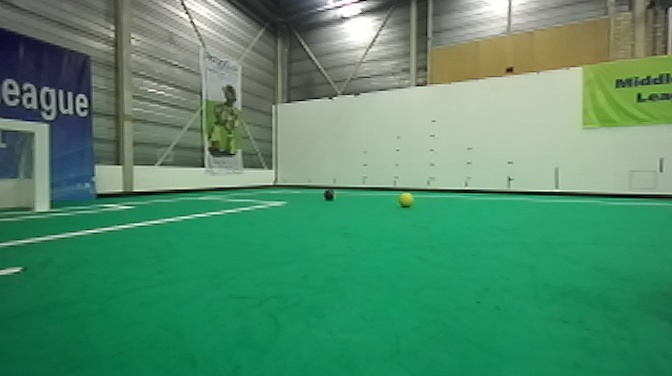ball: (396, 189, 415, 211), (322, 185, 338, 205)
goal: (1, 116, 53, 215)
goalpost: (33, 120, 51, 214)
